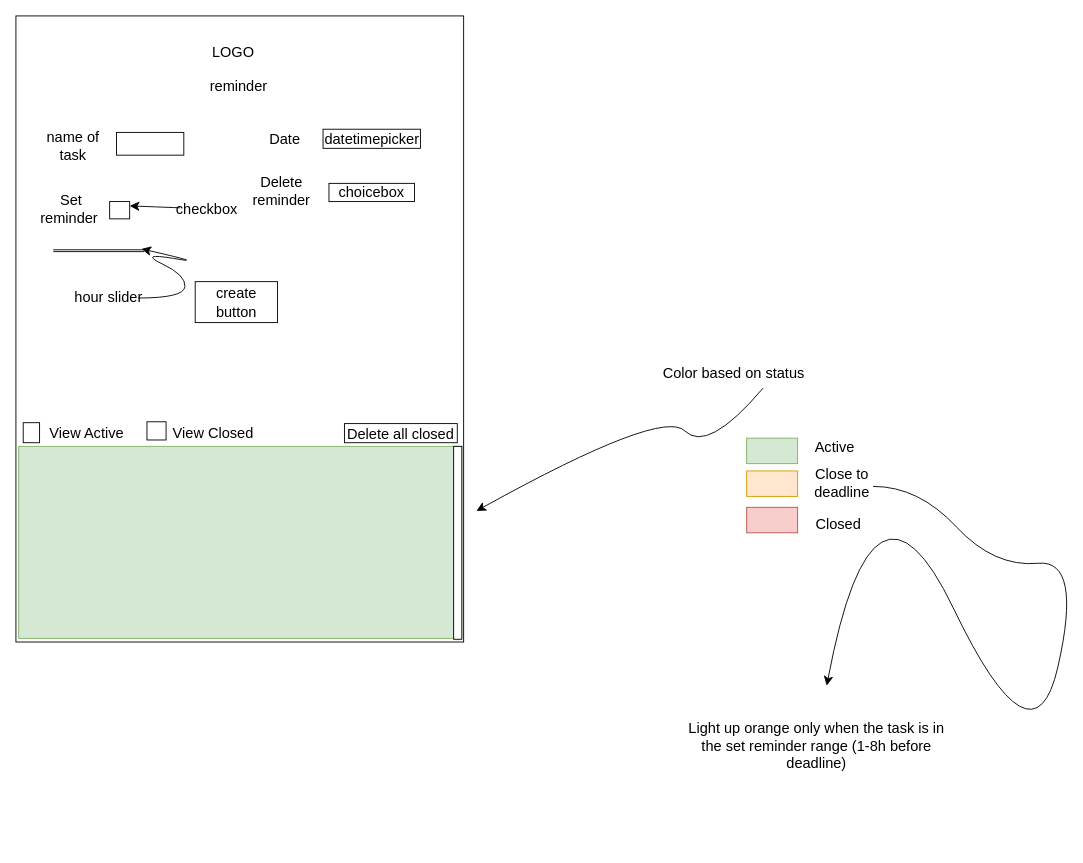
The diagram is 1083 pixels wide and 863 high, and some of its shapes have lost their labels. The centre of each missing label's shape, as x and y in pixels:
"SCROLL PANE NAME, DESC,REMINDER, STATUS" goes at [240,541].
"txt-field" goes at [150,143].
